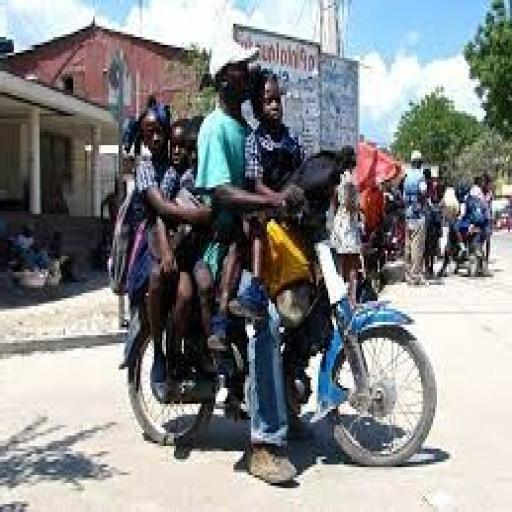helmet: (107, 142, 439, 470)
